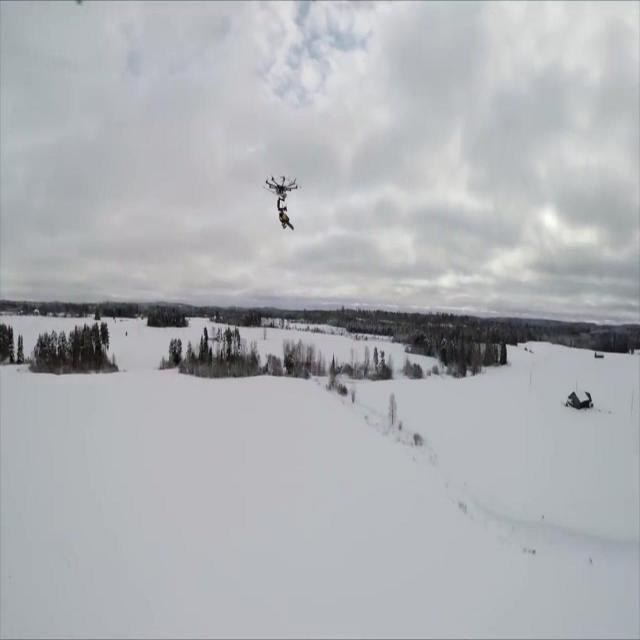UAV: (263, 175, 301, 198)
